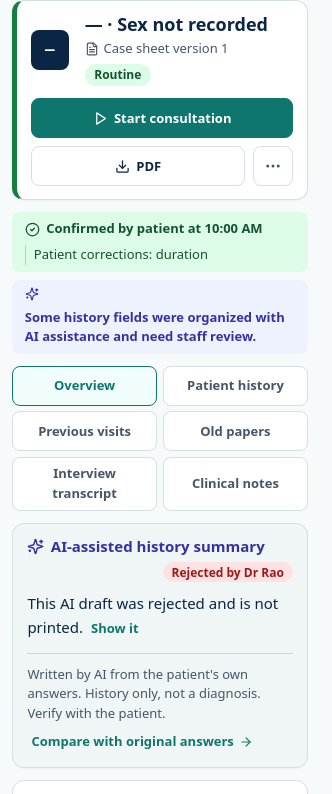
Phase 7.4 doctor consultation › hides a rejected draft until asked and offers no review to nurses
Expected: the text "This AI draft was rejected and is not printed." is shown, [27,593,278,637]
Expected: the text "40-year-old female reports headache for 1-3 days." is not shown
Click the button "Show it" at (115, 628), box [87,616,143,641]
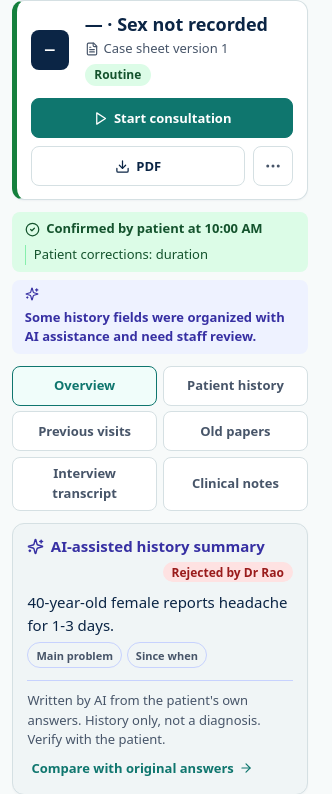
Now the text "40-year-old female reports headache for 1-3 days." is shown, box [27,591,293,638]
